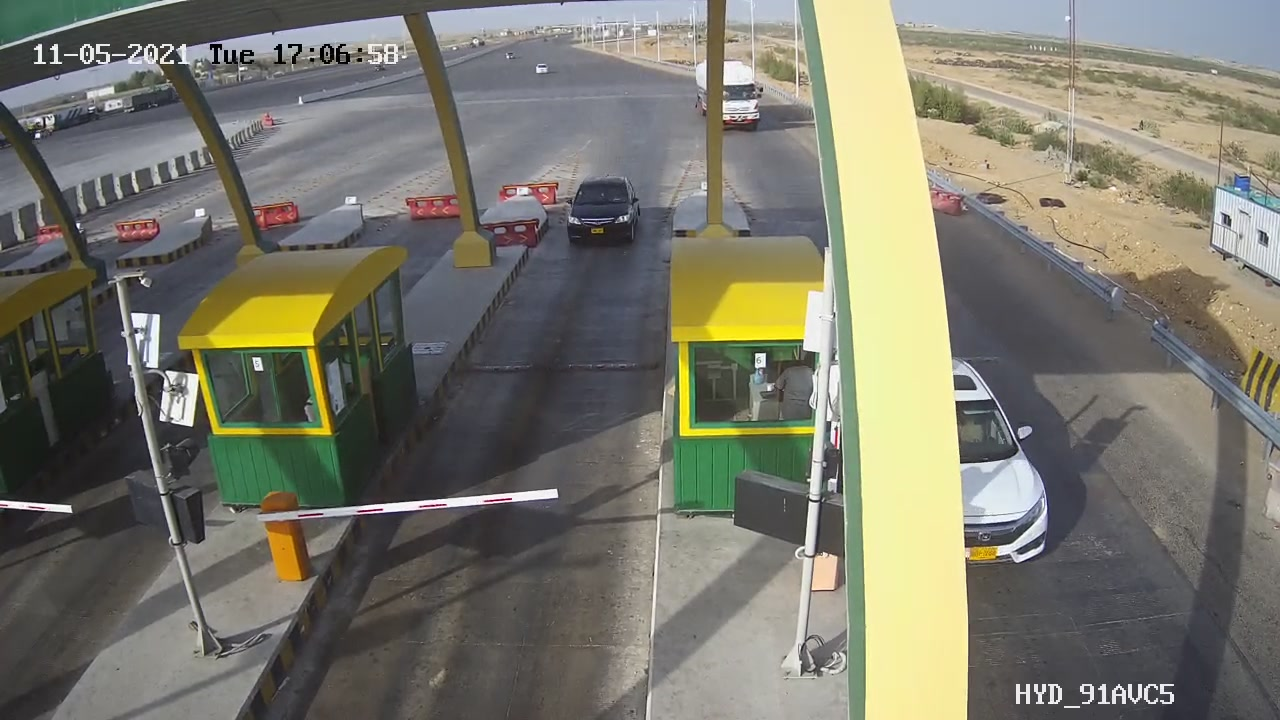F1: (552, 165, 655, 260)
